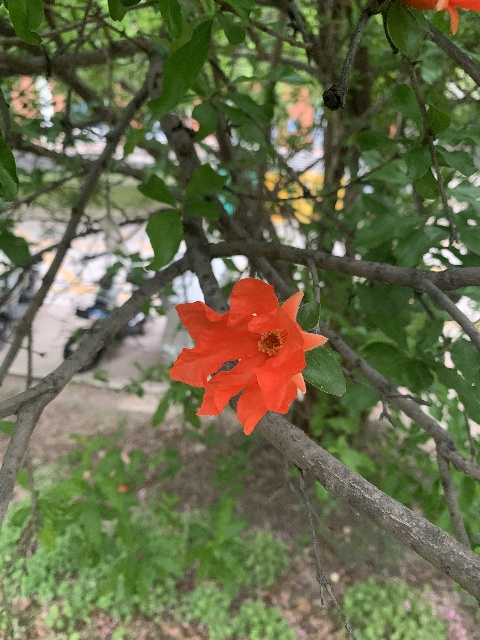flower: (167, 275, 327, 435)
